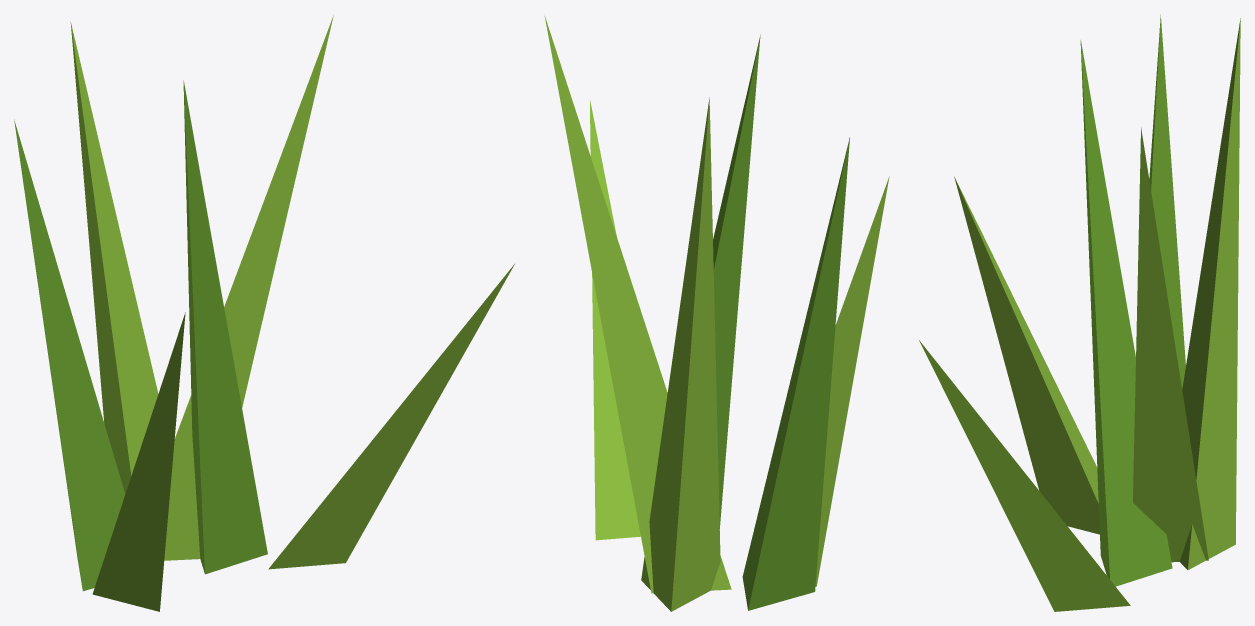
Rendered from Grass_Tuft_A.fbx.
The picture shows the model from 3 angles, left to right: view 1: azimuth 30°, elevation 25°; view 2: azimuth 150°, elevation 25°; view 3: azimuth 270°, elevation 25°; orthographic projection. The views are drawn at different scales.
Parts seen in each view (by area): view 1: Grass_Tuft_A; view 2: Grass_Tuft_A; view 3: Grass_Tuft_A.
Part boxes in pixels (x1=…): Grass_Tuft_A: x1=14, y1=15, x2=514, y2=611; Grass_Tuft_A: x1=544, y1=16, x2=889, y2=611; Grass_Tuft_A: x1=919, y1=14, x2=1240, y2=611.
Bounding box in the file's own units: 0.1721 × 0.2247 × 0.1291.
